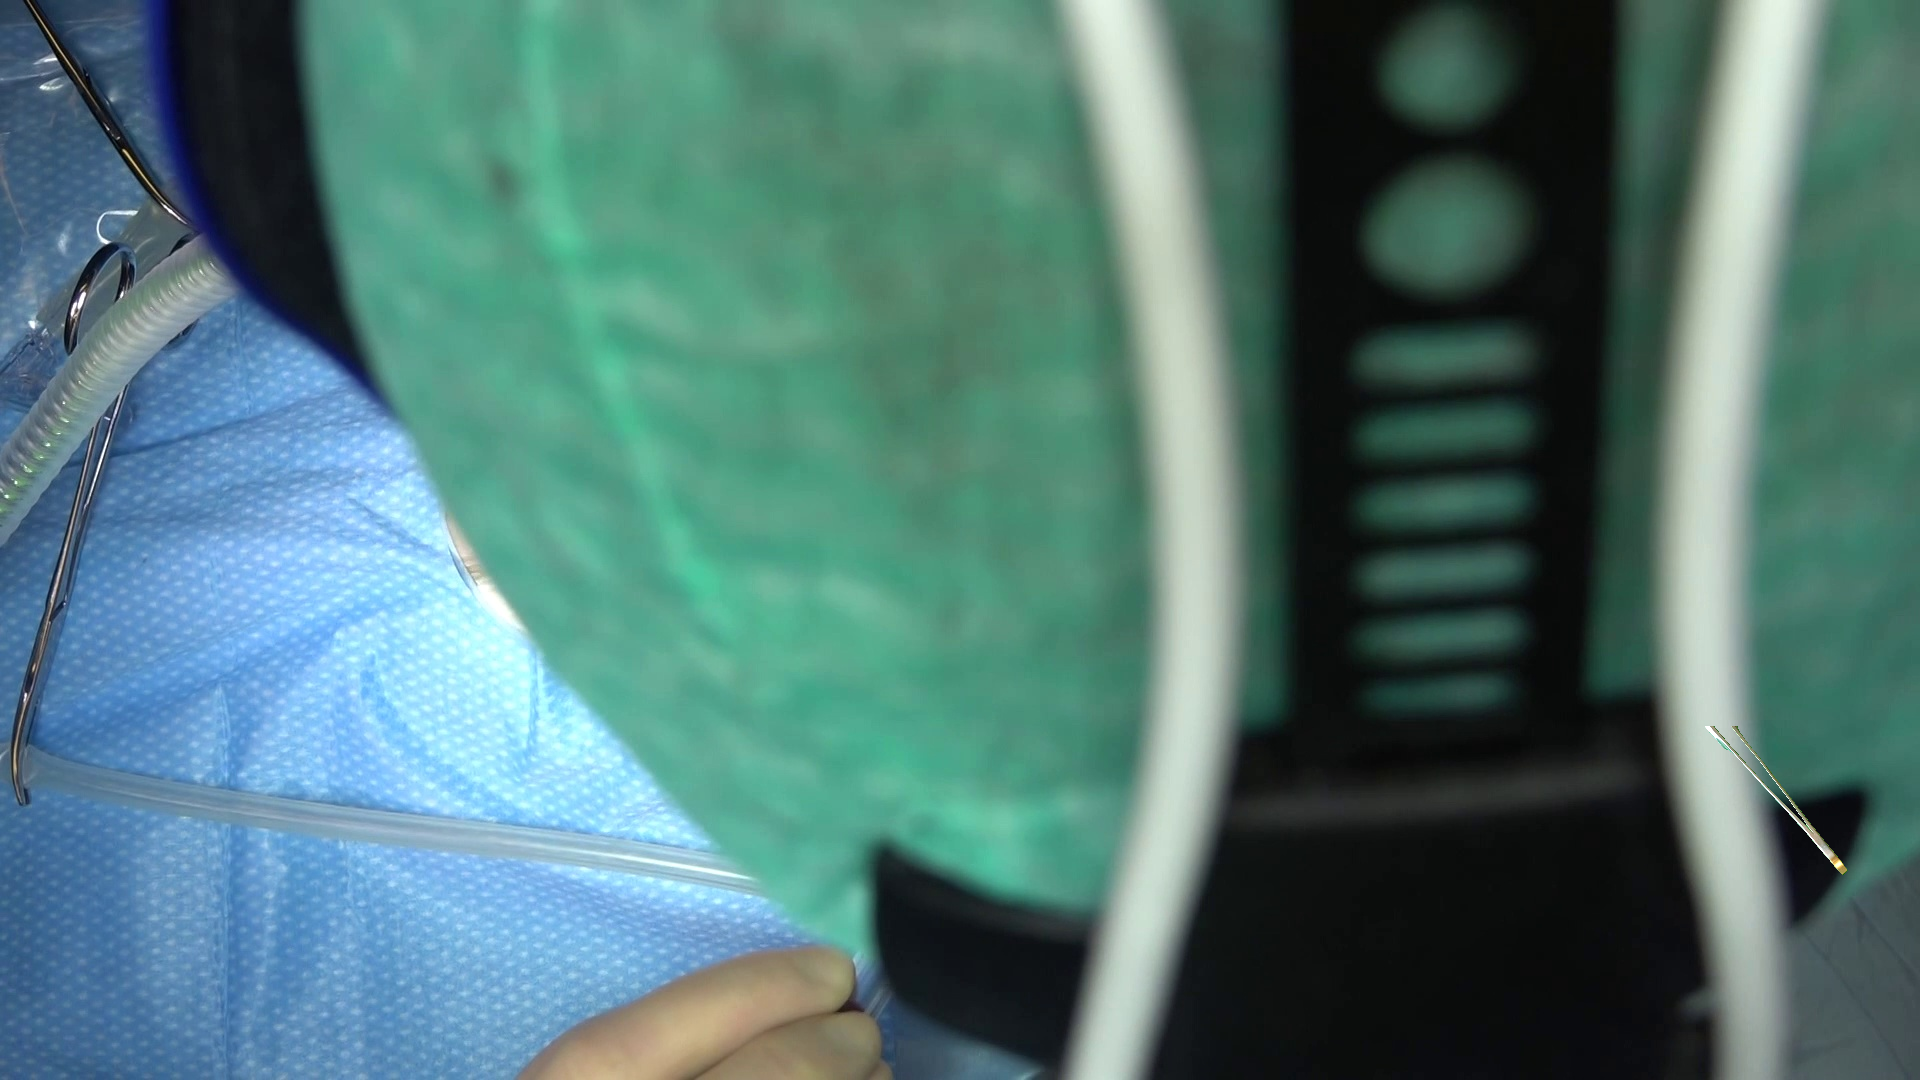forceps: (1705, 727, 1847, 874)
